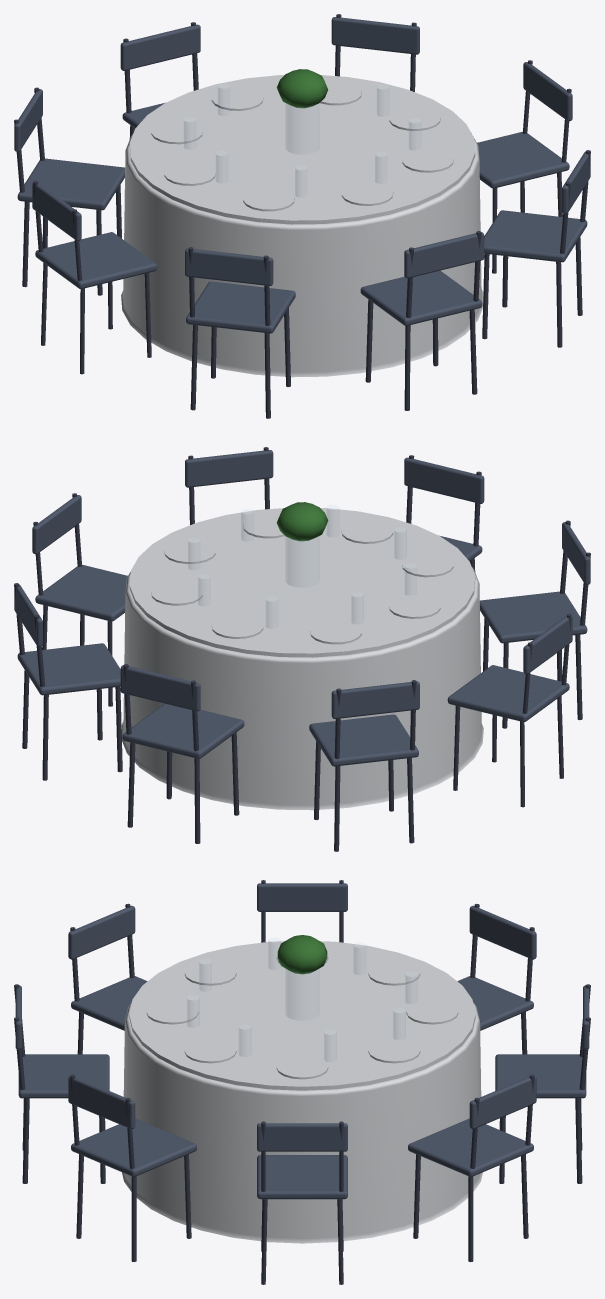
File: hsp-016.glb
The picture shows the model from 3 angles, top to bottom: view 1: azimuth 30°, elevation 25°; view 2: azimuth 150°, elevation 25°; view 3: azimuth 270°, elevation 25°; orthographic projection.
Parts seen in each view (by area): view 1: white, upholstery, dark_steel, glass_clear, leaf_green; view 2: white, upholstery, dark_steel, glass_clear, leaf_green; view 3: white, upholstery, dark_steel, glass_clear, leaf_green.
Boxes of the visible parts, x1,y1,x2,y2 form: white: (121,75,483,377); upholstery: (14,17,590,333); dark_steel: (14,14,590,418); glass_clear: (184,84,420,196); leaf_green: (276,69,327,108); white: (121,508,483,810); upholstery: (14,450,590,766); dark_steel: (14,447,590,851); glass_clear: (188,505,416,628); leaf_green: (277,502,328,541); white: (122,941,482,1243); upholstery: (15,883,589,1199); dark_steel: (14,880,590,1284); glass_clear: (187,938,417,1061); leaf_green: (277,935,327,974).
Bounding box in the file's own units: 2.66 × 1.16 × 2.66.
